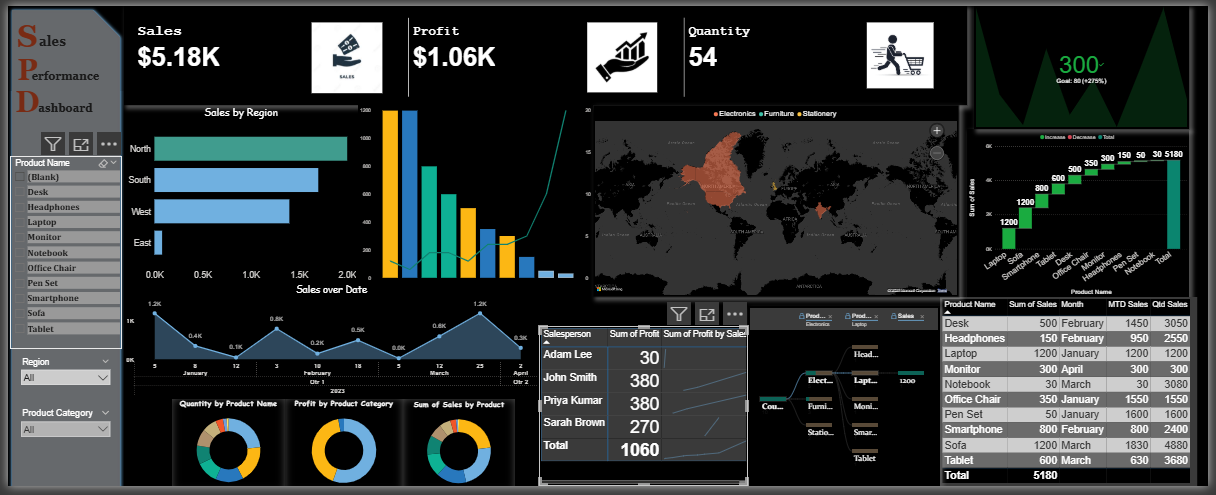

The dashboard page shown, as its layout file describes it:
{"tool":"powerbi","page":{"name":"Page 1","canvas":[3000,1200],"ordinal":0},"visuals":[{"type":"barChart","title":"Sales by Region","fields":{"Category":["Sales_Data.Region"],"Y":["Sum(Sales_Data.Sales)"]},"box":[290,247.5,585,445],"z":0},{"type":"donutChart","title":"Profit by Product Category","fields":{"Y":["Sum(Sales_Data.Profit)"],"Category":["Sales_Data.Product Category"]},"box":[692.5,980,295,237.5],"z":1000},{"type":"donutChart","title":"Quantity by Product Name","fields":{"Category":["Sales_Data.Product Name"],"Y":["Sum(Sales_Data.Profit)"]},"box":[410,980,282.5,235],"z":2000},{"type":"donutChart","title":"Sum of Sales by Product ","fields":{"Category":["Sales_Data.Product Name"],"Y":["Sum(Sales_Data.Sales)"]},"box":[987.5,982.5,280,235],"z":3000},{"type":"lineChart","title":"Sales over Date","fields":{"Y":["Sum(Sales_Data.Sales)"],"Category":["Sales_Data.Date.Variation.Date Hierarchy.Year","Sales_Data.Date.Variation.Date Hierarchy.Quarter","Sales_Data.Date.Variation.Date Hierarchy.Month","Sales_Data.Date.Variation.Date Hierarchy.Day"]},"box":[290,692.5,1037.5,290],"z":4000},{"type":"pivotTable","fields":{"Rows":["Sales_Data.Salesperson"],"Values":["Sum(Sales_Data.Profit)","SparklineData(Sum(Sales_Data.Profit)_[Sales_Data.Sales])"]},"box":[1327.5,800,522.5,400],"z":5000},{"type":"cardVisual","fields":{"Data":["Sum(Sales_Data.Sales)","Sum(Sales_Data.Profit)","Sum(Sales_Data.Quantity)"]},"box":[290,0,2107.5,247.5],"z":6000},{"type":"waterfallChart","title":"Sales by Product Name","fields":{"Category":["Sales_Data.Product Name"],"Y":["Sum(Sales_Data.Sales)"]},"box":[2397.5,307.5,555,420],"z":7000},{"type":"lineStackedColumnComboChart","fields":{"Category":["Sales_Data.Product Name"],"Series":["Sales_Data.Region"],"Y":["Sum(Sales_Data.Sales)"],"Y2":["Sum(Sales_Data.Quantity)"]},"box":[875,247.5,587.5,445],"z":8000},{"type":"shape","title":"Sales Performance Data","box":[0,0,290,1260],"z":9000},{"type":"slicer","fields":{"Values":["Sales_Data.Product Category"]},"box":[22.5,1000,242.5,112.5],"z":10000},{"type":"slicer","fields":{"Values":["Sales_Data.Region"]},"box":[22.5,872.5,242.5,110],"z":11000},{"type":"kpi","fields":{"TrendLine":["Sales_Data.Date"],"Indicator":["Sum(Sales_Data.Sales)"],"Goal":["Sum(Sales_Data.Profit)"]},"box":[2415,0,537.5,307.5],"z":12000},{"type":"tableEx","fields":{"Values":["Sales_Data.Product Name","Sum(Sales_Data.Sales)","Sales_Data.Date.Variation.Date Hierarchy.Month","Sales_Data.MTD Sales","Sales_Data.Qtd Sales"]},"box":[2330,727.5,642.5,472.5],"z":13000},{"type":"filledMap","fields":{"Category":["Sales_Data.Country"],"Series":["Sales_Data.Product Category"]},"box":[1462.5,247.5,915,480],"z":14000},{"type":"actionButton","box":[0,0,97.5,150],"z":15000},{"type":"actionButton","box":[0,105,97.5,100],"z":16000},{"type":"slicer","fields":{"Values":["Sales_Data.Product Name"]},"box":[5,375,280,482.5],"z":17000},{"type":"actionButton","box":[5,25,212.5,125],"z":18000},{"type":"actionButton","box":[35,125,217.5,100],"z":19000},{"type":"actionButton","box":[35,205,217.5,100],"z":20000},{"type":"actionButton","box":[0,185,97.5,100],"z":21000},{"type":"decompositionTreeVisual","fields":{"ExplainBy":["Sales_Data.Product Category","Sales_Data.Product Name","Sales_Data.Sales"],"Analyze":["CountNonNull(Sales_Data.Country)"]},"box":[1850,750,480,450],"z":22000}]}

Visuals, with their boxes in screenshot pixels (x1, y1, x2, y2):
"Sales by Region" barChart: (left=119, top=102, right=353, bottom=280)
"Profit by Product Category" donutChart: (left=280, top=395, right=398, bottom=490)
"Quantity by Product Name" donutChart: (left=167, top=395, right=280, bottom=489)
"Sum of Sales by Product " donutChart: (left=398, top=396, right=510, bottom=490)
"Sales over Date" lineChart: (left=119, top=280, right=534, bottom=396)
pivotTable - Sales_Data.Salesperson x Sum(Sales_Data.Profit): (left=534, top=323, right=743, bottom=483)
cardVisual - Sum(Sales_Data.Sales) x Sum(Sales_Data.Profit): (left=119, top=3, right=962, bottom=102)
"Sales by Product Name" waterfallChart: (left=962, top=126, right=1183, bottom=294)
lineStackedColumnComboChart - Sales_Data.Product Name x Sales_Data.Region: (left=353, top=102, right=588, bottom=280)
"Sales Performance Data" shape: (left=3, top=3, right=119, bottom=494)
slicer - Sales_Data.Product Category: (left=12, top=403, right=109, bottom=448)
slicer - Sales_Data.Region: (left=12, top=352, right=109, bottom=396)
kpi - Sales_Data.Date x Sum(Sales_Data.Sales): (left=969, top=3, right=1183, bottom=126)
tableEx - Sales_Data.Product Name x Sum(Sales_Data.Sales): (left=935, top=294, right=1191, bottom=483)
filledMap - Sales_Data.Country x Sales_Data.Product Category: (left=588, top=102, right=954, bottom=294)
actionButton: (left=3, top=3, right=42, bottom=63)
actionButton: (left=3, top=45, right=42, bottom=85)
slicer - Sales_Data.Product Name: (left=5, top=153, right=117, bottom=346)
actionButton: (left=5, top=13, right=90, bottom=63)
actionButton: (left=17, top=53, right=104, bottom=93)
actionButton: (left=17, top=85, right=104, bottom=125)
actionButton: (left=3, top=77, right=42, bottom=117)
decompositionTreeVisual - Sales_Data.Product Category x Sales_Data.Product Name: (left=743, top=303, right=935, bottom=483)
